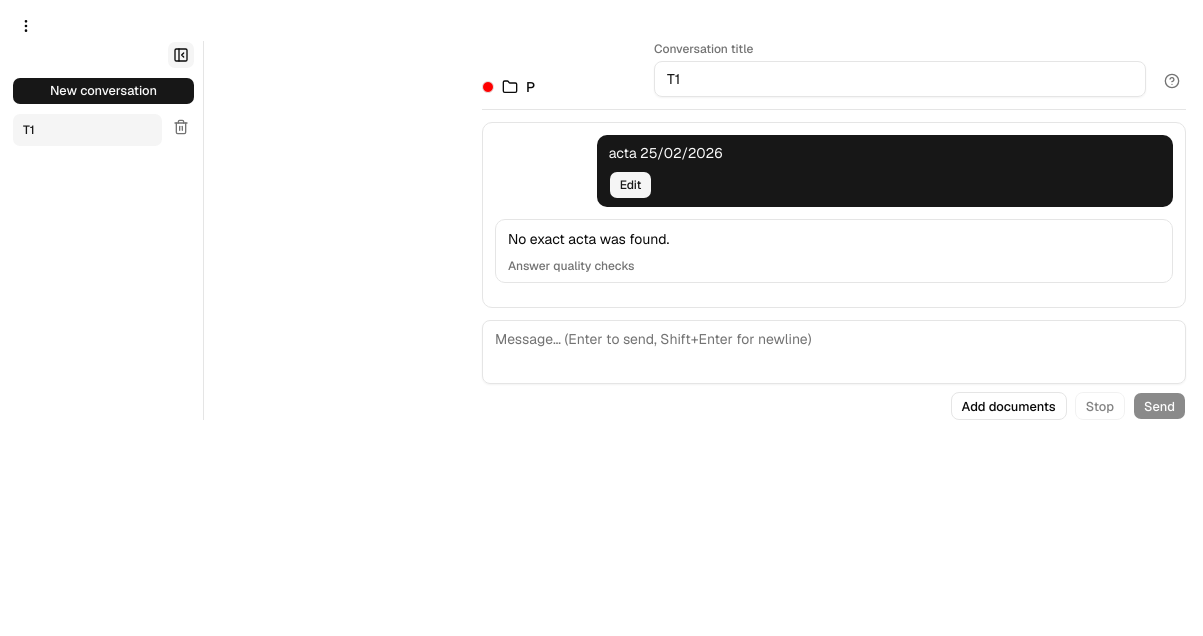
Test: ChatPage › T-M5-FE-sources: renders filename, date, chunk, and date warning
This screenshot has width=1203, height=636.
Click the button "T1": (88, 130) top-left (12, 113), bottom-right (163, 147)
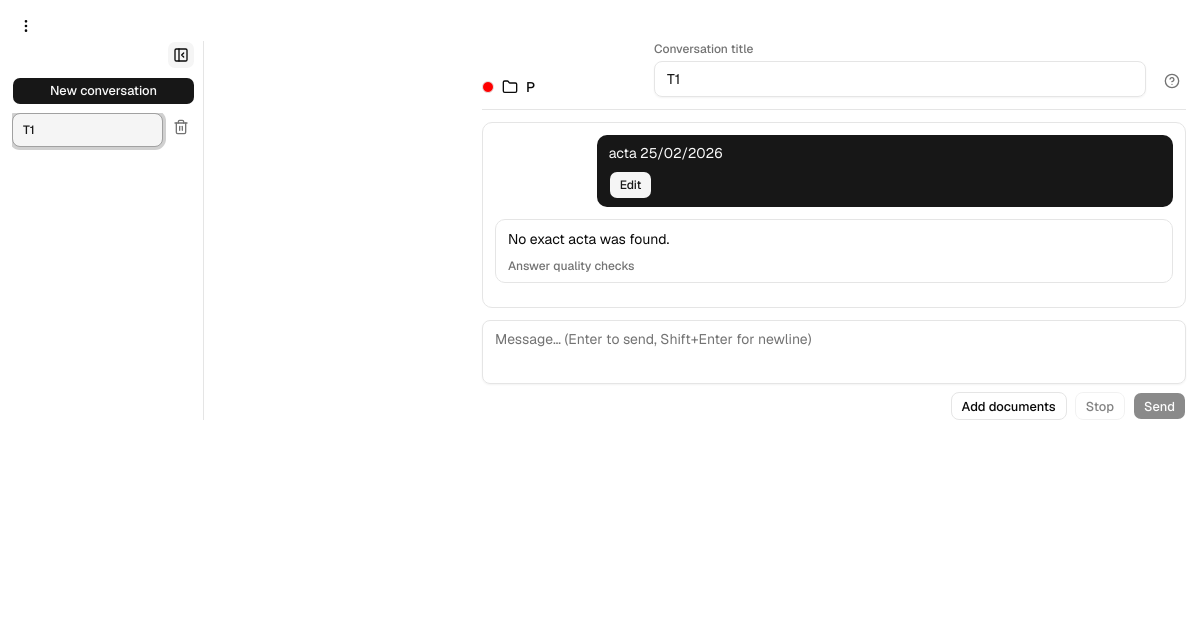
Expected: the element with test id "chat-page" is shown, top-left (12, 41), bottom-right (1186, 420)
Expected: the element with test id "chat-answer" shows "No exact acta", top-left (508, 230), bottom-right (669, 248)
Click the heading with test id "chat-message-metadata-toggle": (571, 266) top-left (508, 258), bottom-right (634, 274)
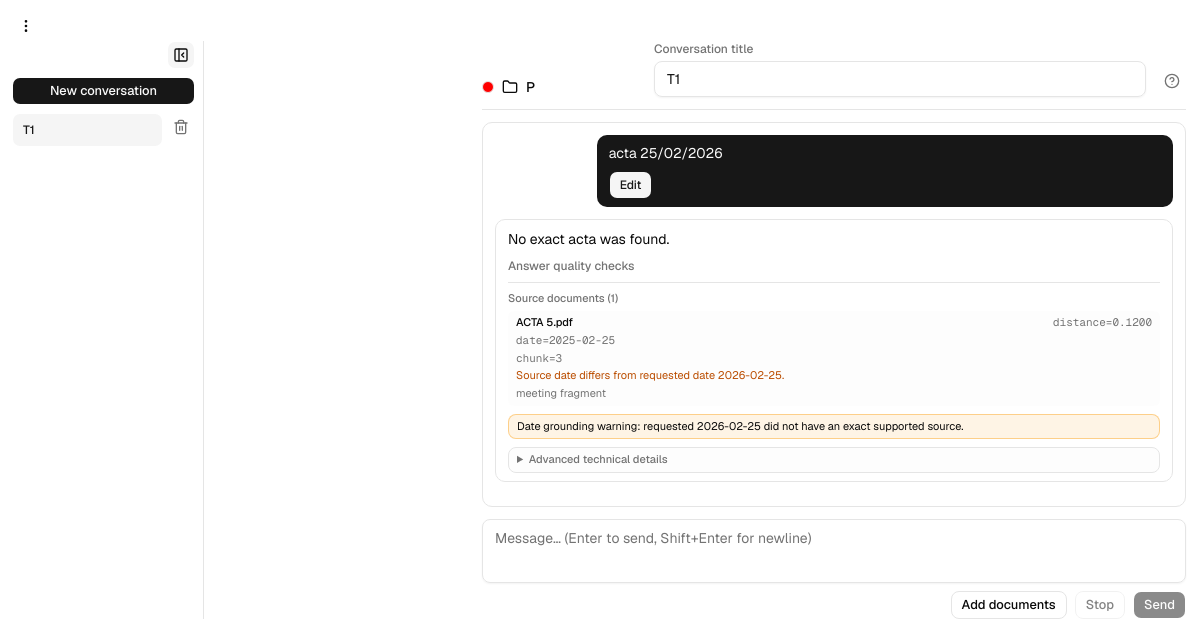
Expected: the element with test id "chat-message-metadata-panel" is shown, top-left (508, 282), bottom-right (1160, 473)
Expected: the element with test id "chat-sources" shows "ACTA 5.pdf", top-left (516, 315), bottom-right (573, 329)
Expected: the element with test id "chat-sources" shows "date=2025-02-25", top-left (508, 291), bottom-right (1160, 406)
